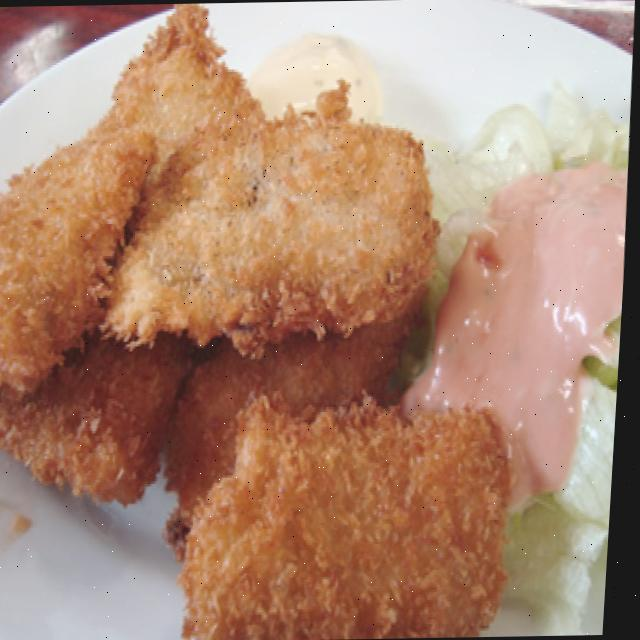炸货点心: (0, 3, 526, 640)
熟制海鲜: (0, 3, 526, 640)
